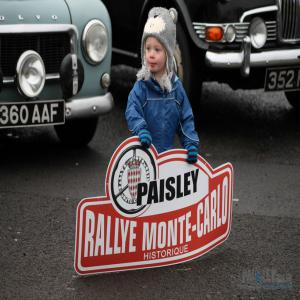Vehicle-registration-plate: (1, 102, 68, 131), (265, 66, 300, 93)
